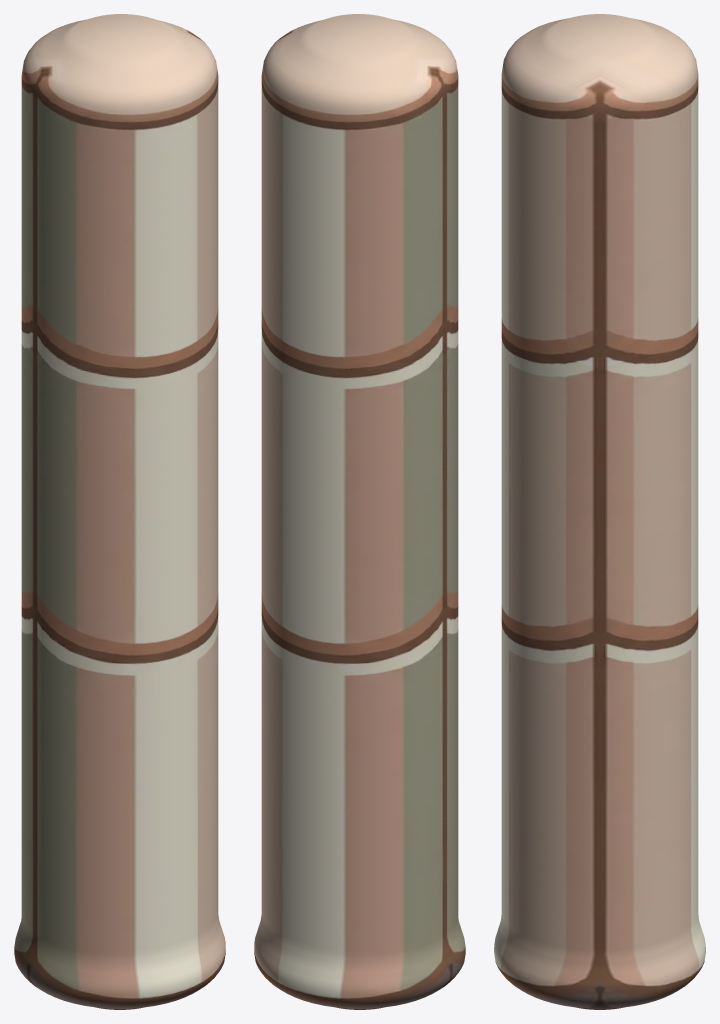
File: cream_column.glb
The picture shows the model from 3 angles, left to right: view 1: azimuth 30°, elevation 25°; view 2: azimuth 150°, elevation 25°; view 3: azimuth 270°, elevation 25°; orthographic projection.
Parts seen in each view (by area): view 1: cream_column; view 2: cream_column; view 3: cream_column.
Part boxes in pixels (<box>): cream_column: <box>14,14,225,1009</box>; cream_column: <box>254,14,465,1009</box>; cream_column: <box>494,14,705,1009</box>.
Size of the model in its own units: 0.981 by 4.88 by 0.981.
Materials: 1 (1 with a texture image).
